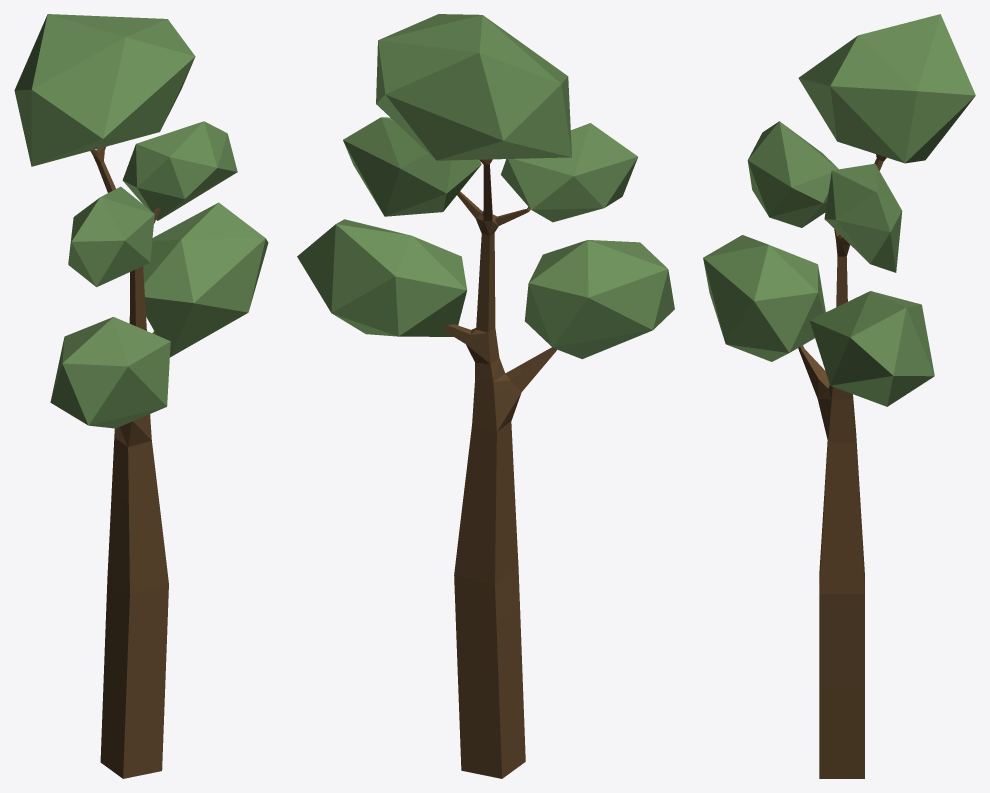
File: Tree_04 2.glb
3 views of the same model, side by side, from view 1: azimuth 30°, elevation 25°; view 2: azimuth 150°, elevation 25°; view 3: azimuth 270°, elevation 25° (orthographic). The views are drawn at different scales.
Parts seen in each view (by area): view 1: Tree_04_LOD0; view 2: Tree_04_LOD0; view 3: Tree_04_LOD0.
Part boxes in pixels (x1,y1,x2,y2): Tree_04_LOD0: (14,14,268,778); Tree_04_LOD0: (297,14,674,778); Tree_04_LOD0: (703,14,975,778).
Size of what is drawn, in the model's own units: 2.7 by 6.69 by 2.24.
1 material, 1 textured.
